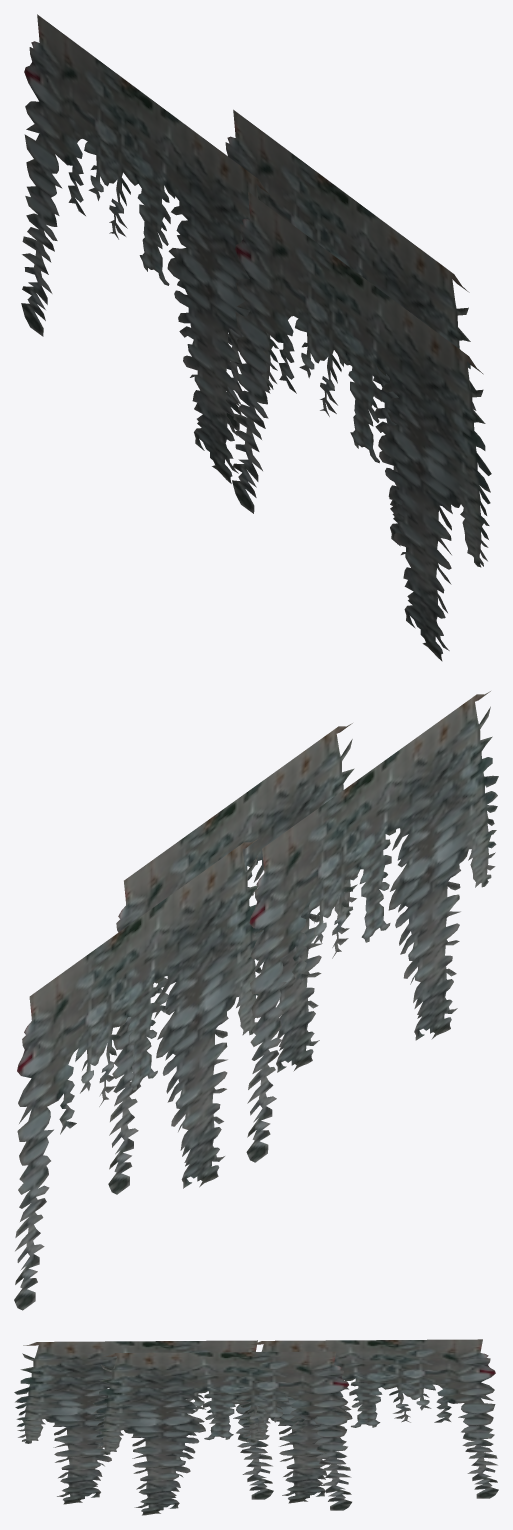
Rendered from flowers.glb.
3 renders of one model, top to bottom at view 1: azimuth 30°, elevation 25°; view 2: azimuth 150°, elevation 25°; view 3: azimuth 270°, elevation 25°, orthographic. The views are drawn at different scales.
Parts seen in each view (by area): view 1: Cube.009; view 2: Cube.009; view 3: Cube.009.
Part boxes in pixels (x1,y1,x2,y2): Cube.009: (21,14,491,661); Cube.009: (14,691,498,1310); Cube.009: (14,1339,498,1515).
Bounding box in the file's own units: 3.41 × 17.23 × 44.95.
1 material, 1 textured.
